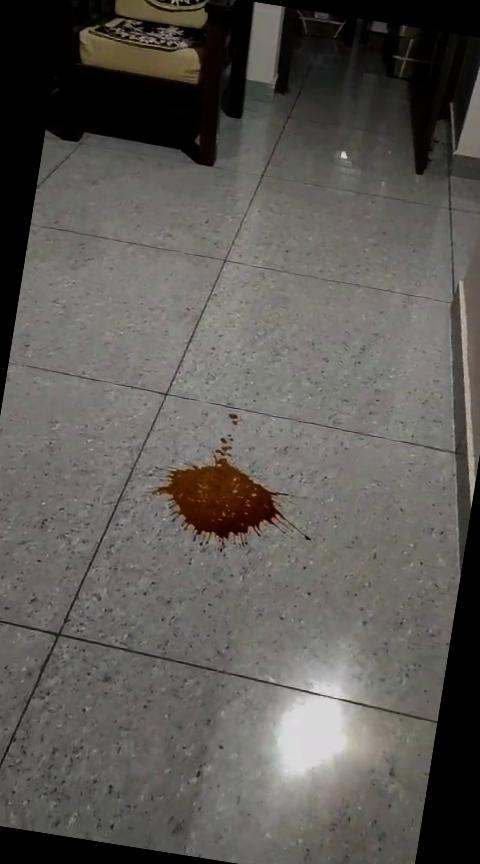dirty_floor: (146, 403, 328, 562)
